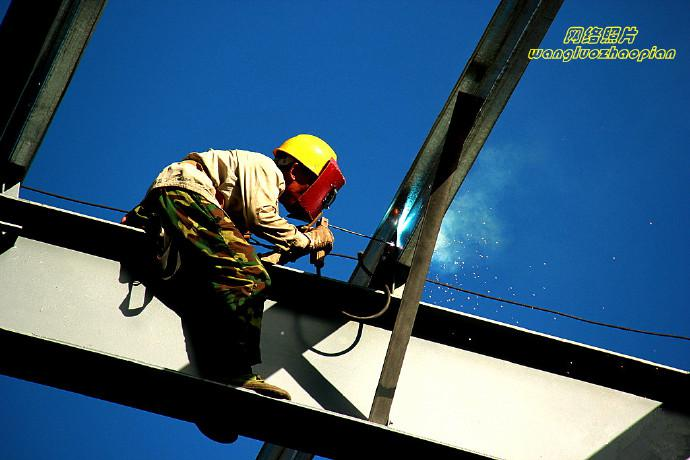helmet: (267, 128, 344, 218)
